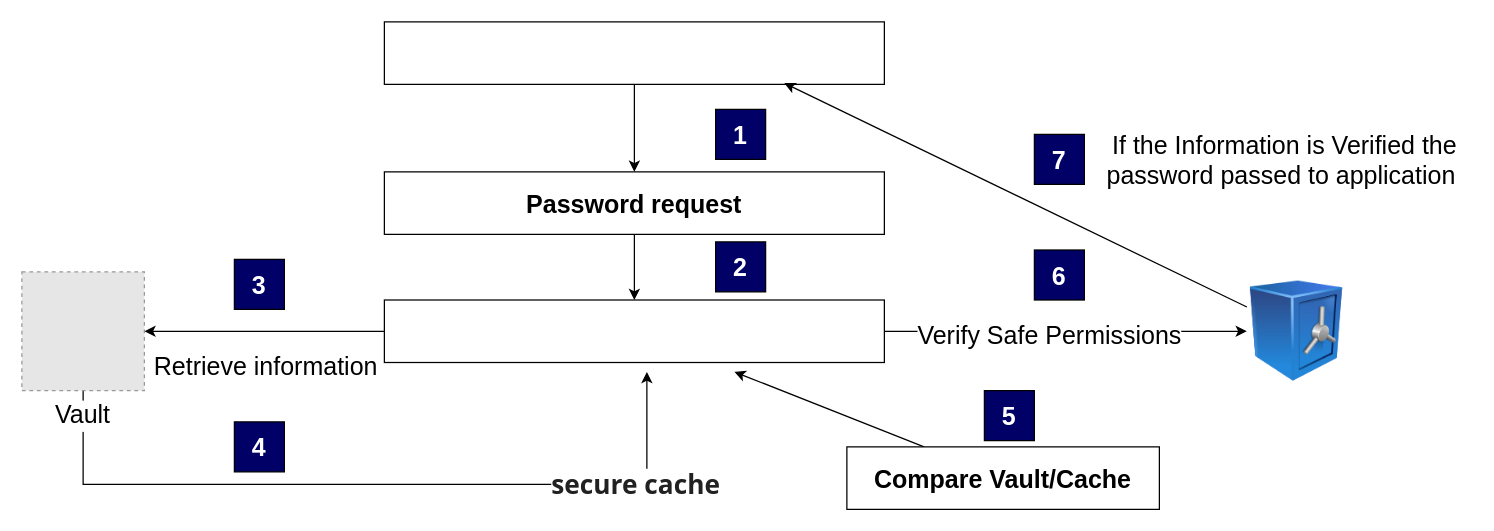
This 1494x531 diagram has some shape labels left out. Grey dashed boxes stand in for pictures. The shapes that lost their labels are listed below. From the top down, each one's box as (x1, y1, x2, y2) in pixels, then its label:
(383, 21, 884, 84): Application
(383, 299, 884, 362): Credential Provider
